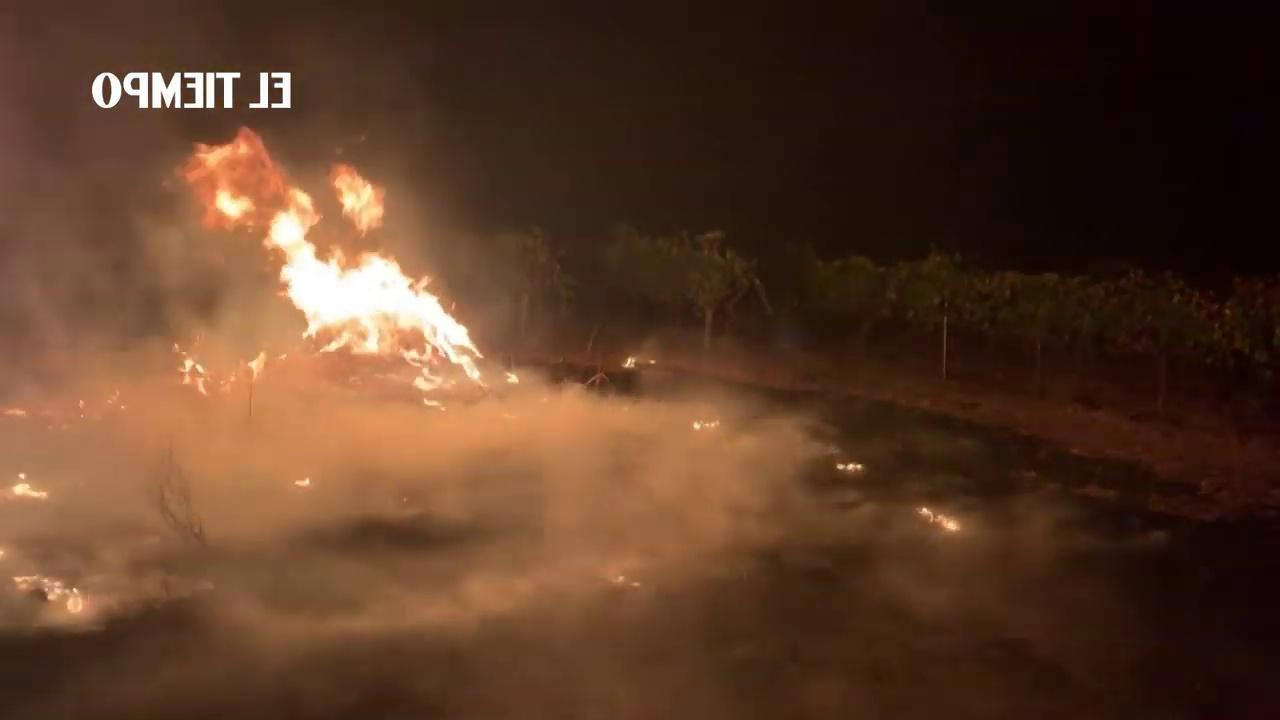Fire: (169, 129, 517, 411), (15, 574, 84, 610), (7, 472, 49, 502), (918, 506, 962, 532), (833, 459, 867, 475), (690, 416, 718, 431), (292, 475, 314, 487), (623, 355, 636, 368)
